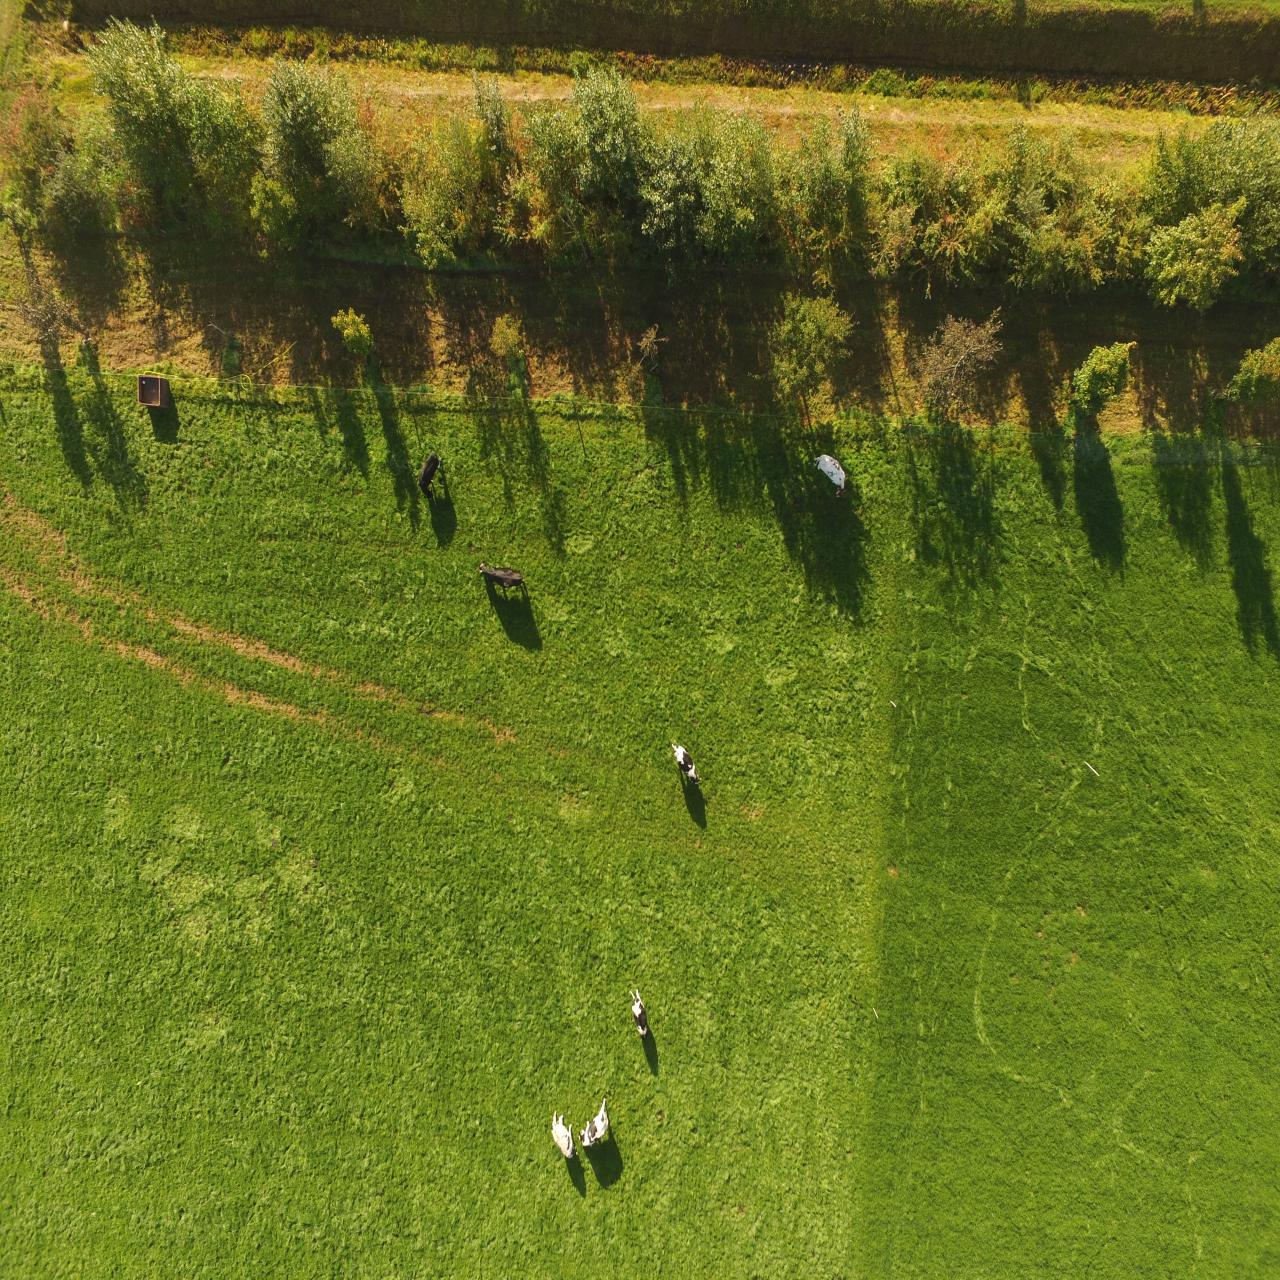cow: (413, 445, 445, 501), (477, 559, 526, 594), (813, 452, 851, 498), (579, 1095, 611, 1149), (549, 1109, 578, 1166), (670, 742, 701, 785), (626, 988, 649, 1040)
